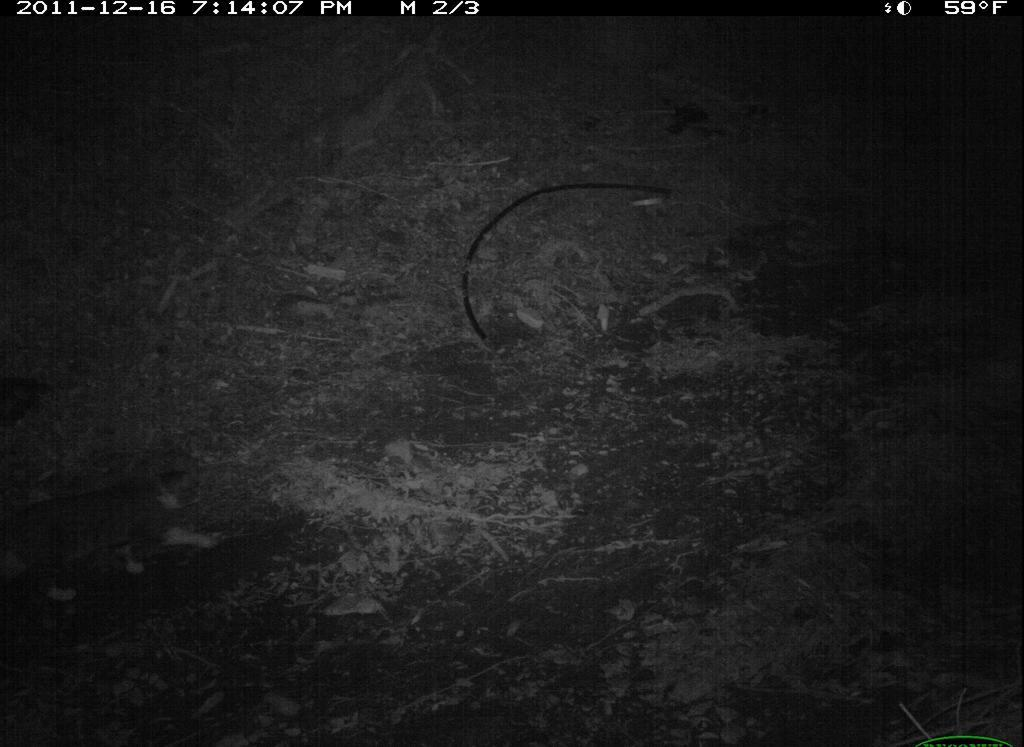cat: (1, 446, 221, 618)
